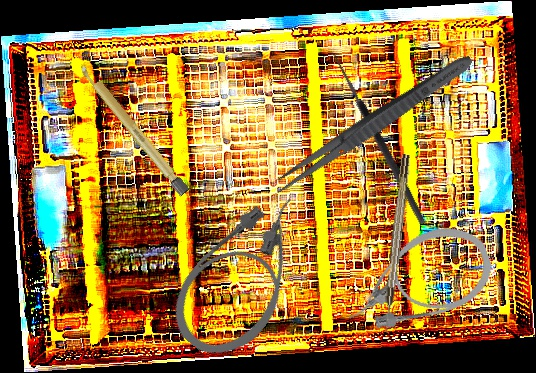Cannula: (155, 179, 338, 373), (330, 215, 502, 344)
Dressing Forceps: (268, 48, 478, 201)
Hook Surgical: (320, 49, 428, 230), (380, 154, 412, 333)
Scalpel Handle: (76, 60, 191, 197)
